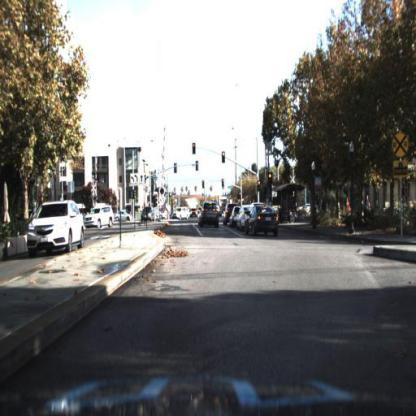car: (25, 199, 87, 259), (247, 204, 282, 240), (85, 197, 116, 233), (83, 202, 116, 231), (198, 205, 221, 230), (236, 202, 255, 232), (171, 202, 189, 221), (141, 206, 159, 224), (116, 209, 135, 222), (237, 206, 246, 232), (223, 201, 231, 228), (160, 205, 171, 221), (231, 206, 238, 227)
pedestrian: (343, 195, 353, 231), (364, 189, 374, 224), (363, 195, 372, 228), (344, 193, 352, 222)
trafficLight-Red: (220, 148, 228, 166), (256, 177, 263, 195), (191, 143, 199, 158), (220, 174, 226, 191), (267, 172, 274, 186), (238, 189, 243, 201)
